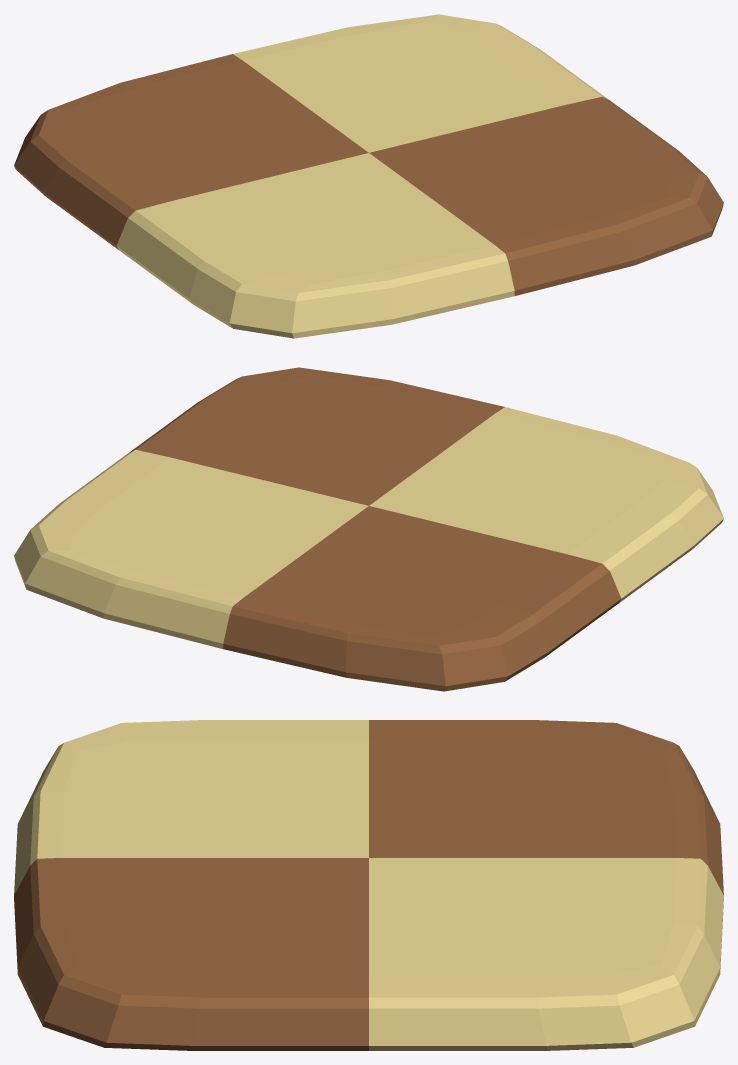
File: cookie.fbx
3 renders of one model, top to bottom at view 1: azimuth 30°, elevation 25°; view 2: azimuth 150°, elevation 25°; view 3: azimuth 270°, elevation 25°, orthographic. The views are drawn at different scales.
Parts seen in each view (by area): view 1: Cube; view 2: Cube; view 3: Cube.
Part boxes in pixels (<box>): Cube: <box>14,14,723,338</box>; Cube: <box>14,367,723,691</box>; Cube: <box>14,720,723,1050</box>.
Bounding box in the file's own units: 212 × 15.05 × 212.
